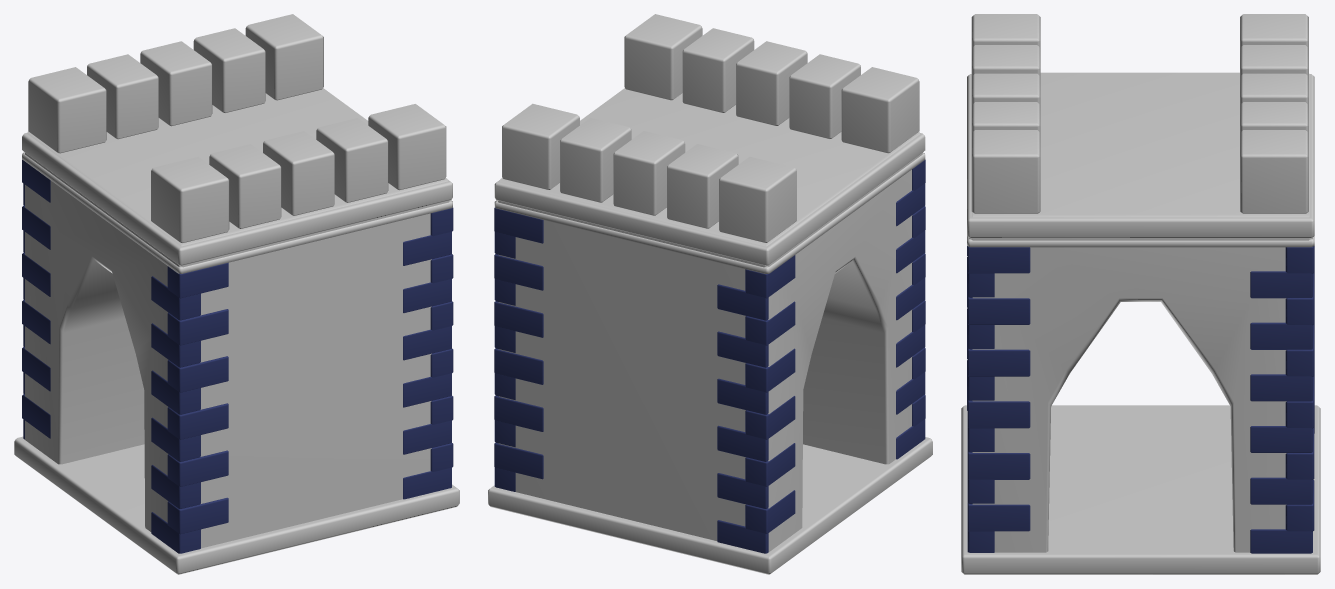
Rendered from tunnel_straight.fbx.
The picture shows the model from 3 angles, left to right: view 1: azimuth 30°, elevation 25°; view 2: azimuth 150°, elevation 25°; view 3: azimuth 270°, elevation 25°; orthographic projection. The views are drawn at different scales.
Parts seen in each view (by area): view 1: tunnel_straight; view 2: tunnel_straight; view 3: tunnel_straight.
Part boxes in pixels (x1,y1,x2,y2): tunnel_straight: (14,14,459,574); tunnel_straight: (488,14,932,574); tunnel_straight: (961,14,1320,574).
Bounding box in the file's own units: 414 × 531 × 416.
